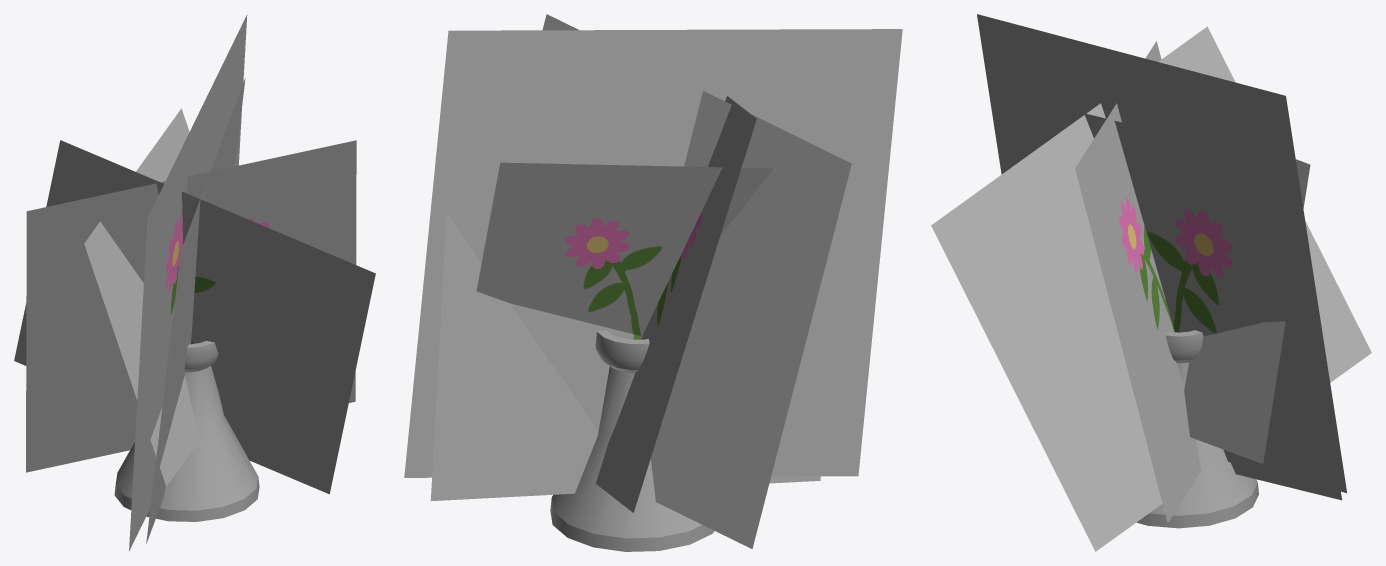
Rendered from Flower and pot.fbx.
3 renders of one model, left to right at view 1: azimuth 30°, elevation 25°; view 2: azimuth 150°, elevation 25°; view 3: azimuth 270°, elevation 25°, orthographic. The views are drawn at different scales.
Parts seen in each view (by area): view 1: Flower_plane4, Flower_plane1, Flower_plane5, Pot, Flower_plane3, Flower_plane2; view 2: Flower_plane5, Flower_plane1, Flower_plane3, Flower_plane2, Flower_plane4, Pot; view 3: Flower_plane4, Flower_plane5, Flower_plane2, Flower_plane1, Flower_plane3, Pot.
Part boxes in pixels (x1,y1,x2,y2): Flower_plane4: (14, 140, 375, 494); Flower_plane1: (26, 140, 356, 472); Flower_plane5: (129, 14, 247, 551); Pot: (114, 340, 259, 521); Flower_plane3: (84, 108, 199, 486); Flower_plane2: (146, 77, 245, 543); Flower_plane5: (404, 29, 902, 477); Flower_plane1: (542, 14, 851, 548); Flower_plane3: (476, 162, 773, 335); Flower_plane2: (430, 213, 820, 500); Flower_plane4: (596, 96, 756, 512); Pot: (550, 330, 714, 551); Flower_plane4: (931, 26, 1371, 551); Flower_plane5: (977, 14, 1346, 492); Flower_plane2: (996, 91, 1342, 500); Flower_plane1: (1075, 41, 1200, 523); Flower_plane3: (1184, 159, 1310, 463); Pot: (1137, 330, 1258, 528).
Size of the model in its own units: 547 by 651 by 568.
Materials: 2 (1 with a texture image).
